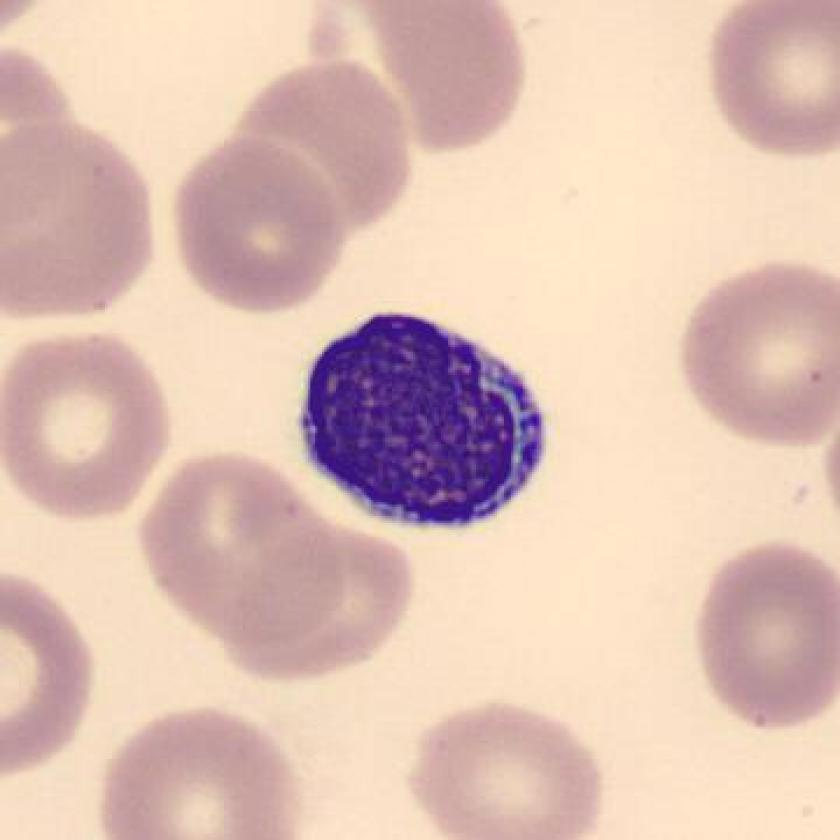lymphocyte: (284, 295, 564, 547)
